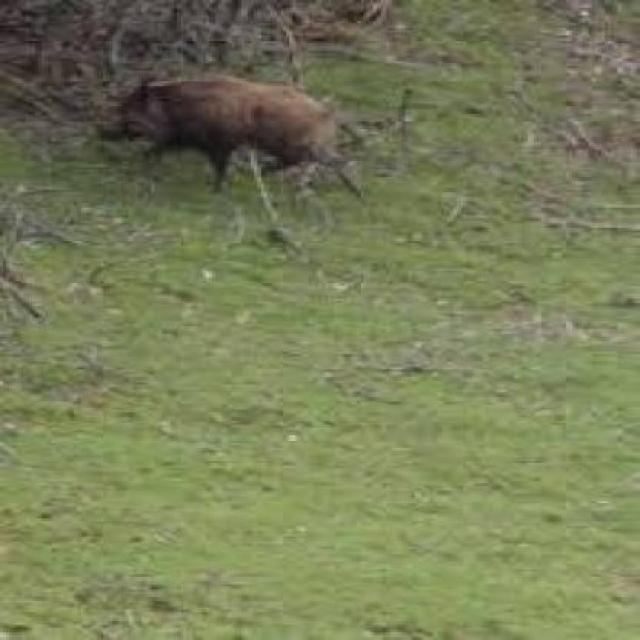wildboar: (94, 63, 375, 194)
